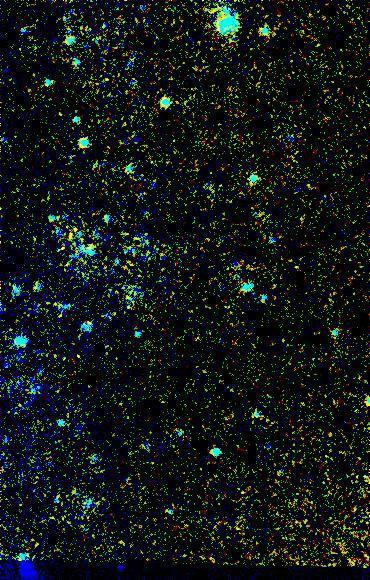star: (74, 227, 104, 257)
